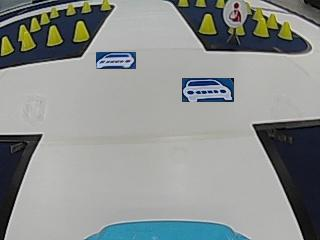cone: (199, 13, 217, 34), (253, 11, 268, 36), (19, 26, 35, 49), (73, 21, 89, 41), (47, 26, 63, 46), (278, 21, 293, 40), (1, 36, 13, 54), (30, 16, 41, 31), (99, 0, 111, 11), (65, 3, 76, 15), (40, 11, 50, 24), (81, 1, 91, 13), (49, 6, 59, 18), (194, 0, 207, 8), (177, 0, 189, 7), (215, 0, 224, 8)
patient: (224, 1, 246, 26)
